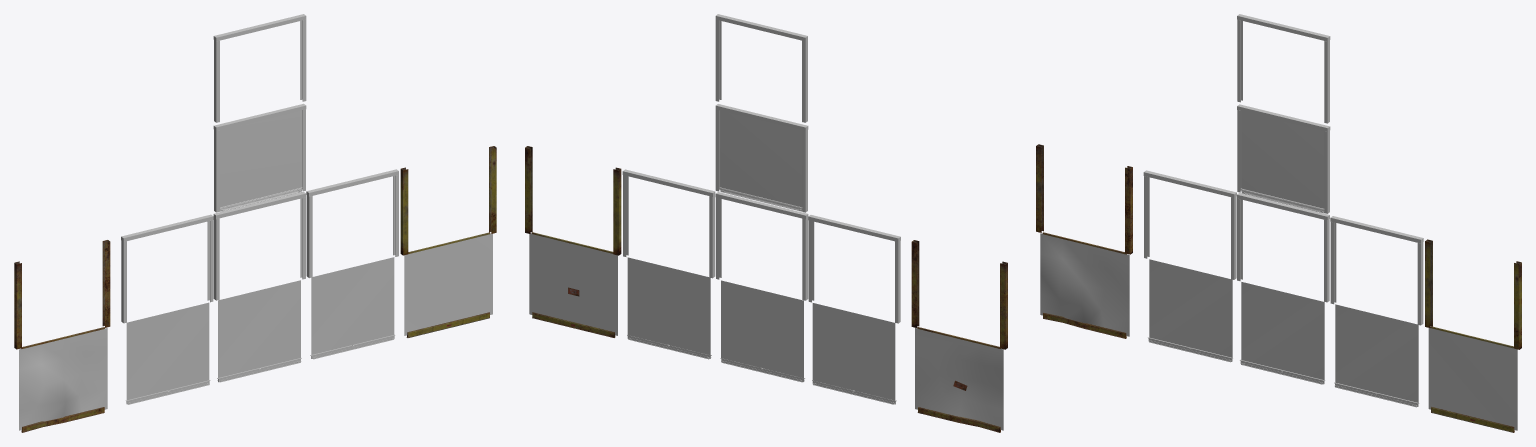
Rendered from UpRoolDoorsPack1.fbx.
3 views of the same model, side by side, from view 1: azimuth 30°, elevation 25°; view 2: azimuth 150°, elevation 25°; view 3: azimuth 330°, elevation 25° (orthographic).
Visible parts, largest first — view 1: SM_RollUp_Door_A.mo, SM_RollUp_Door_B.mo, SM_RollUpDoor_C_Red.mo, SM_RollUpDoor_C_Yellow.mo, SM_RollUpDoor_C_Blue.mo, SM_RollUpDoor_E.mo, SM_RollUpDoor_C_Frame_Yellow.mo, SM_RollUpDoor_D_Frame_Blue.mo, SM_RollUpDoor_C_Frame_Red.mo, SM_RollUpDoor_D_Frame_Yellow.mo, SM_RollUp_Frame_A.mo, SM_RollUp_Frame_B.mo (+1 smaller); view 2: SM_RollUp_Door_A.mo, SM_RollUp_Door_B.mo, SM_RollUpDoor_C_Yellow.mo, SM_RollUpDoor_C_Red.mo, SM_RollUpDoor_C_Blue.mo, SM_RollUpDoor_E.mo, SM_RollUpDoor_D_Frame_Blue.mo, SM_RollUpDoor_D_Frame_Yellow.mo, SM_RollUpDoor_C_Frame_Yellow.mo, SM_RollUpDoor_C_Frame_Red.mo, SM_RollUpDoor_C_Frame_Blue.mo, SM_RollUp_Frame_A.mo (+1 smaller); view 3: SM_RollUp_Door_A.mo, SM_RollUp_Door_B.mo, SM_RollUpDoor_C_Yellow.mo, SM_RollUpDoor_C_Blue.mo, SM_RollUpDoor_C_Red.mo, SM_RollUpDoor_E.mo, SM_RollUpDoor_D_Frame_Blue.mo, SM_RollUpDoor_C_Frame_Yellow.mo, SM_RollUpDoor_C_Frame_Red.mo, SM_RollUpDoor_D_Frame_Yellow.mo, SM_RollUpDoor_C_Frame_Blue.mo, SM_RollUp_Frame_B.mo (+1 smaller).
Part boxes in pixels (x1,y1,x2,y2): SM_RollUp_Door_A.mo: [404, 232, 492, 337]; SM_RollUp_Door_B.mo: [19, 327, 107, 432]; SM_RollUpDoor_C_Red.mo: [310, 257, 395, 359]; SM_RollUpDoor_C_Yellow.mo: [126, 302, 210, 404]; SM_RollUpDoor_C_Blue.mo: [217, 280, 301, 382]; SM_RollUpDoor_E.mo: [220, 110, 302, 211]; SM_RollUpDoor_C_Frame_Yellow.mo: [213, 14, 306, 122]; SM_RollUpDoor_D_Frame_Blue.mo: [306, 169, 398, 277]; SM_RollUpDoor_C_Frame_Red.mo: [121, 214, 213, 323]; SM_RollUpDoor_D_Frame_Yellow.mo: [213, 192, 305, 300]; SM_RollUp_Frame_A.mo: [400, 146, 496, 255]; SM_RollUp_Frame_B.mo: [14, 240, 110, 349]; SM_RollUp_Door_A.mo: [529, 232, 617, 337]; SM_RollUp_Door_B.mo: [915, 327, 1003, 432]; SM_RollUpDoor_C_Yellow.mo: [812, 303, 896, 404]; SM_RollUpDoor_C_Red.mo: [627, 257, 711, 359]; SM_RollUpDoor_C_Blue.mo: [720, 280, 805, 382]; SM_RollUpDoor_E.mo: [720, 110, 802, 211]; SM_RollUpDoor_D_Frame_Blue.mo: [622, 169, 715, 278]; SM_RollUpDoor_D_Frame_Yellow.mo: [715, 192, 808, 300]; SM_RollUpDoor_C_Frame_Yellow.mo: [715, 14, 807, 122]; SM_RollUpDoor_C_Frame_Red.mo: [808, 215, 900, 323]; SM_RollUpDoor_C_Frame_Blue.mo: [715, 104, 808, 212]; SM_RollUp_Frame_A.mo: [525, 146, 621, 255]; SM_RollUp_Door_A.mo: [1428, 326, 1517, 432]; SM_RollUp_Door_B.mo: [1040, 232, 1129, 338]; SM_RollUpDoor_C_Yellow.mo: [1148, 259, 1232, 362]; SM_RollUpDoor_C_Blue.mo: [1240, 282, 1325, 384]; SM_RollUpDoor_C_Red.mo: [1334, 304, 1419, 407]; SM_RollUpDoor_E.mo: [1241, 111, 1324, 212]; SM_RollUpDoor_D_Frame_Blue.mo: [1330, 216, 1423, 325]; SM_RollUpDoor_C_Frame_Yellow.mo: [1237, 14, 1330, 123]; SM_RollUpDoor_C_Frame_Red.mo: [1143, 170, 1236, 279]; SM_RollUpDoor_D_Frame_Yellow.mo: [1237, 193, 1329, 302]; SM_RollUpDoor_C_Frame_Blue.mo: [1237, 104, 1330, 213]; SM_RollUp_Frame_B.mo: [1036, 144, 1132, 254].
Bounding box in the file's own units: 1709 × 1185 × 26.62.
